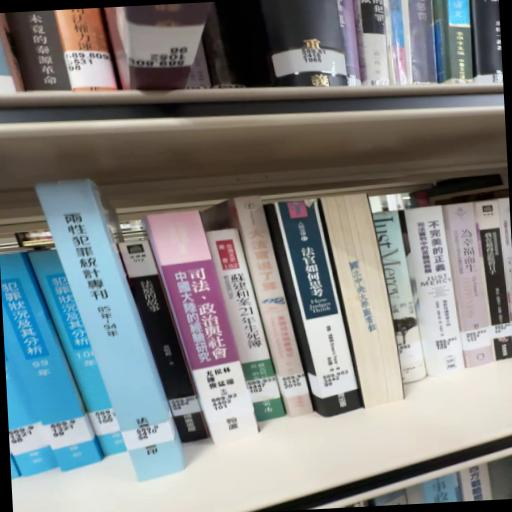backward: (320, 195, 405, 410)
book: (43, 175, 190, 491), (152, 211, 265, 450), (108, 214, 205, 450), (271, 203, 367, 424), (227, 202, 314, 427), (325, 201, 406, 416), (208, 227, 285, 435), (364, 202, 419, 401)
